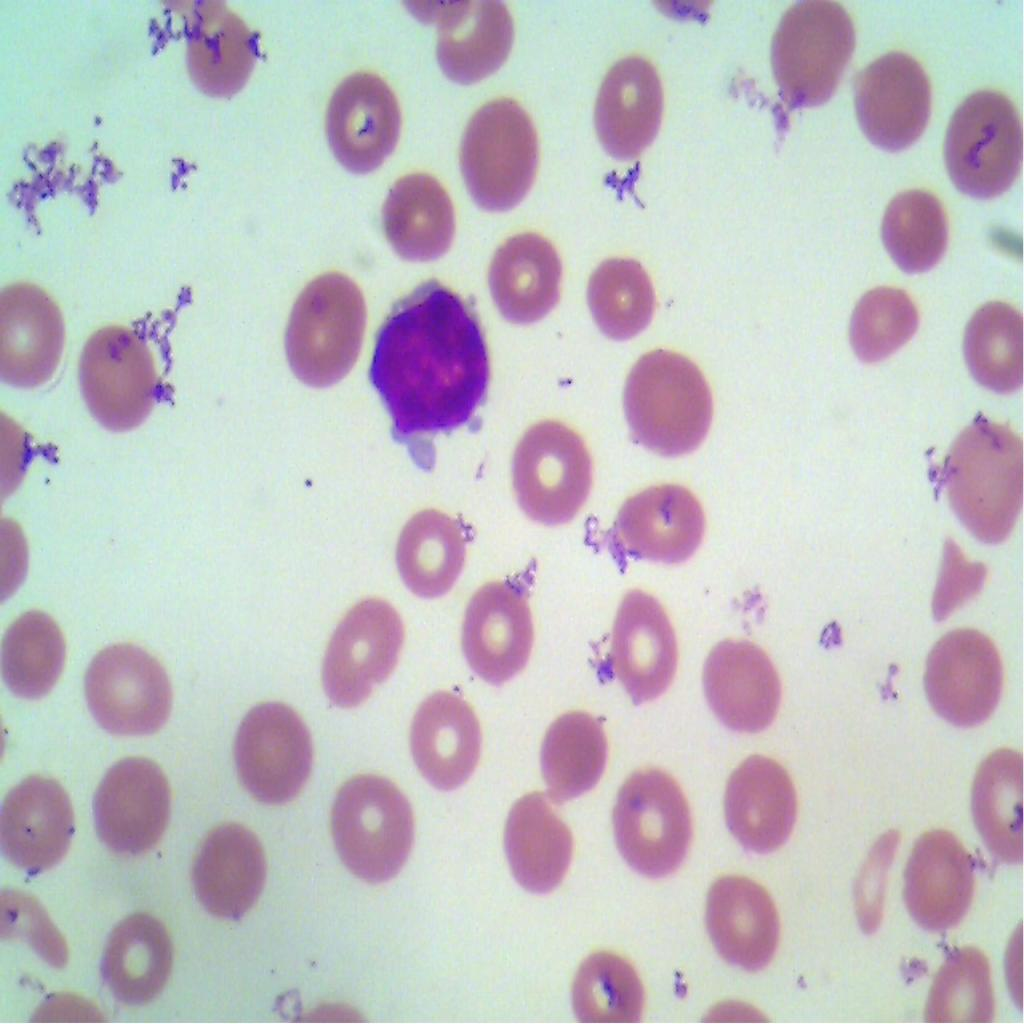Eritrosit: (363, 277, 494, 461), (266, 254, 366, 391), (626, 334, 716, 468), (933, 420, 1023, 554), (759, 0, 862, 114), (456, 87, 542, 221), (79, 625, 178, 740), (888, 824, 990, 934), (514, 409, 595, 547), (230, 684, 320, 807), (922, 624, 1016, 740), (604, 580, 684, 715), (856, 20, 928, 169), (84, 748, 178, 862), (183, 814, 275, 930), (456, 572, 538, 702), (76, 322, 164, 441), (176, 4, 266, 118), (704, 634, 789, 752), (708, 858, 786, 986), (498, 790, 576, 916), (0, 271, 75, 402), (321, 589, 403, 708), (331, 771, 411, 892), (715, 744, 803, 854), (943, 81, 1023, 201), (372, 161, 458, 272), (0, 768, 89, 874), (613, 477, 711, 572), (404, 688, 486, 801), (489, 224, 570, 337), (615, 765, 691, 884), (329, 64, 408, 177), (593, 48, 666, 167), (94, 909, 179, 1007), (0, 595, 74, 707), (543, 698, 614, 810), (388, 505, 475, 595), (428, 0, 519, 85), (913, 932, 998, 1023), (591, 244, 661, 351), (838, 279, 918, 370), (964, 745, 1023, 865), (568, 939, 650, 1023), (882, 189, 956, 280), (958, 298, 1023, 396), (912, 542, 986, 627)
